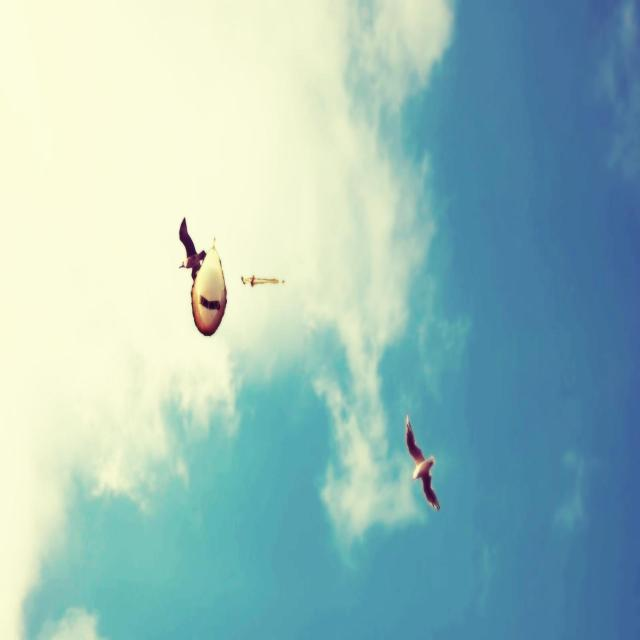airplane: (191, 237, 227, 338)
